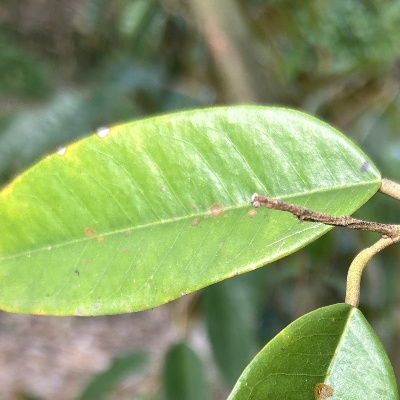Leaf_Algal: (0, 103, 383, 321)
